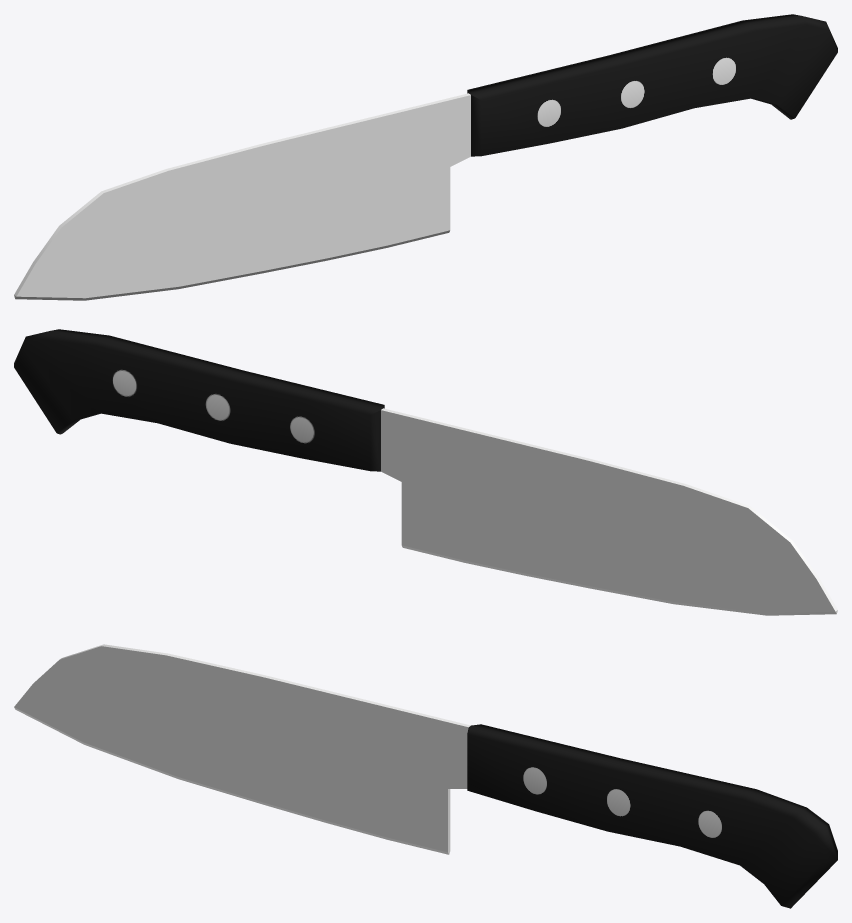
The model's file is houchou03.fbx.
3 views of the same model, one above another, from view 1: azimuth 30°, elevation 25°; view 2: azimuth 150°, elevation 25°; view 3: azimuth 330°, elevation 25° (orthographic).
Visible parts, largest first — view 1: polySurface1; view 2: polySurface1; view 3: polySurface1.
Part boxes in pixels (left/top/right/bottom): polySurface1: left=14, top=14, right=837, bottom=300; polySurface1: left=14, top=329, right=837, bottom=615; polySurface1: left=14, top=644, right=837, bottom=908.
Size of the model in its own units: 16.12 by 2.54 by 0.48.
Materials: 1 (1 with a texture image).
